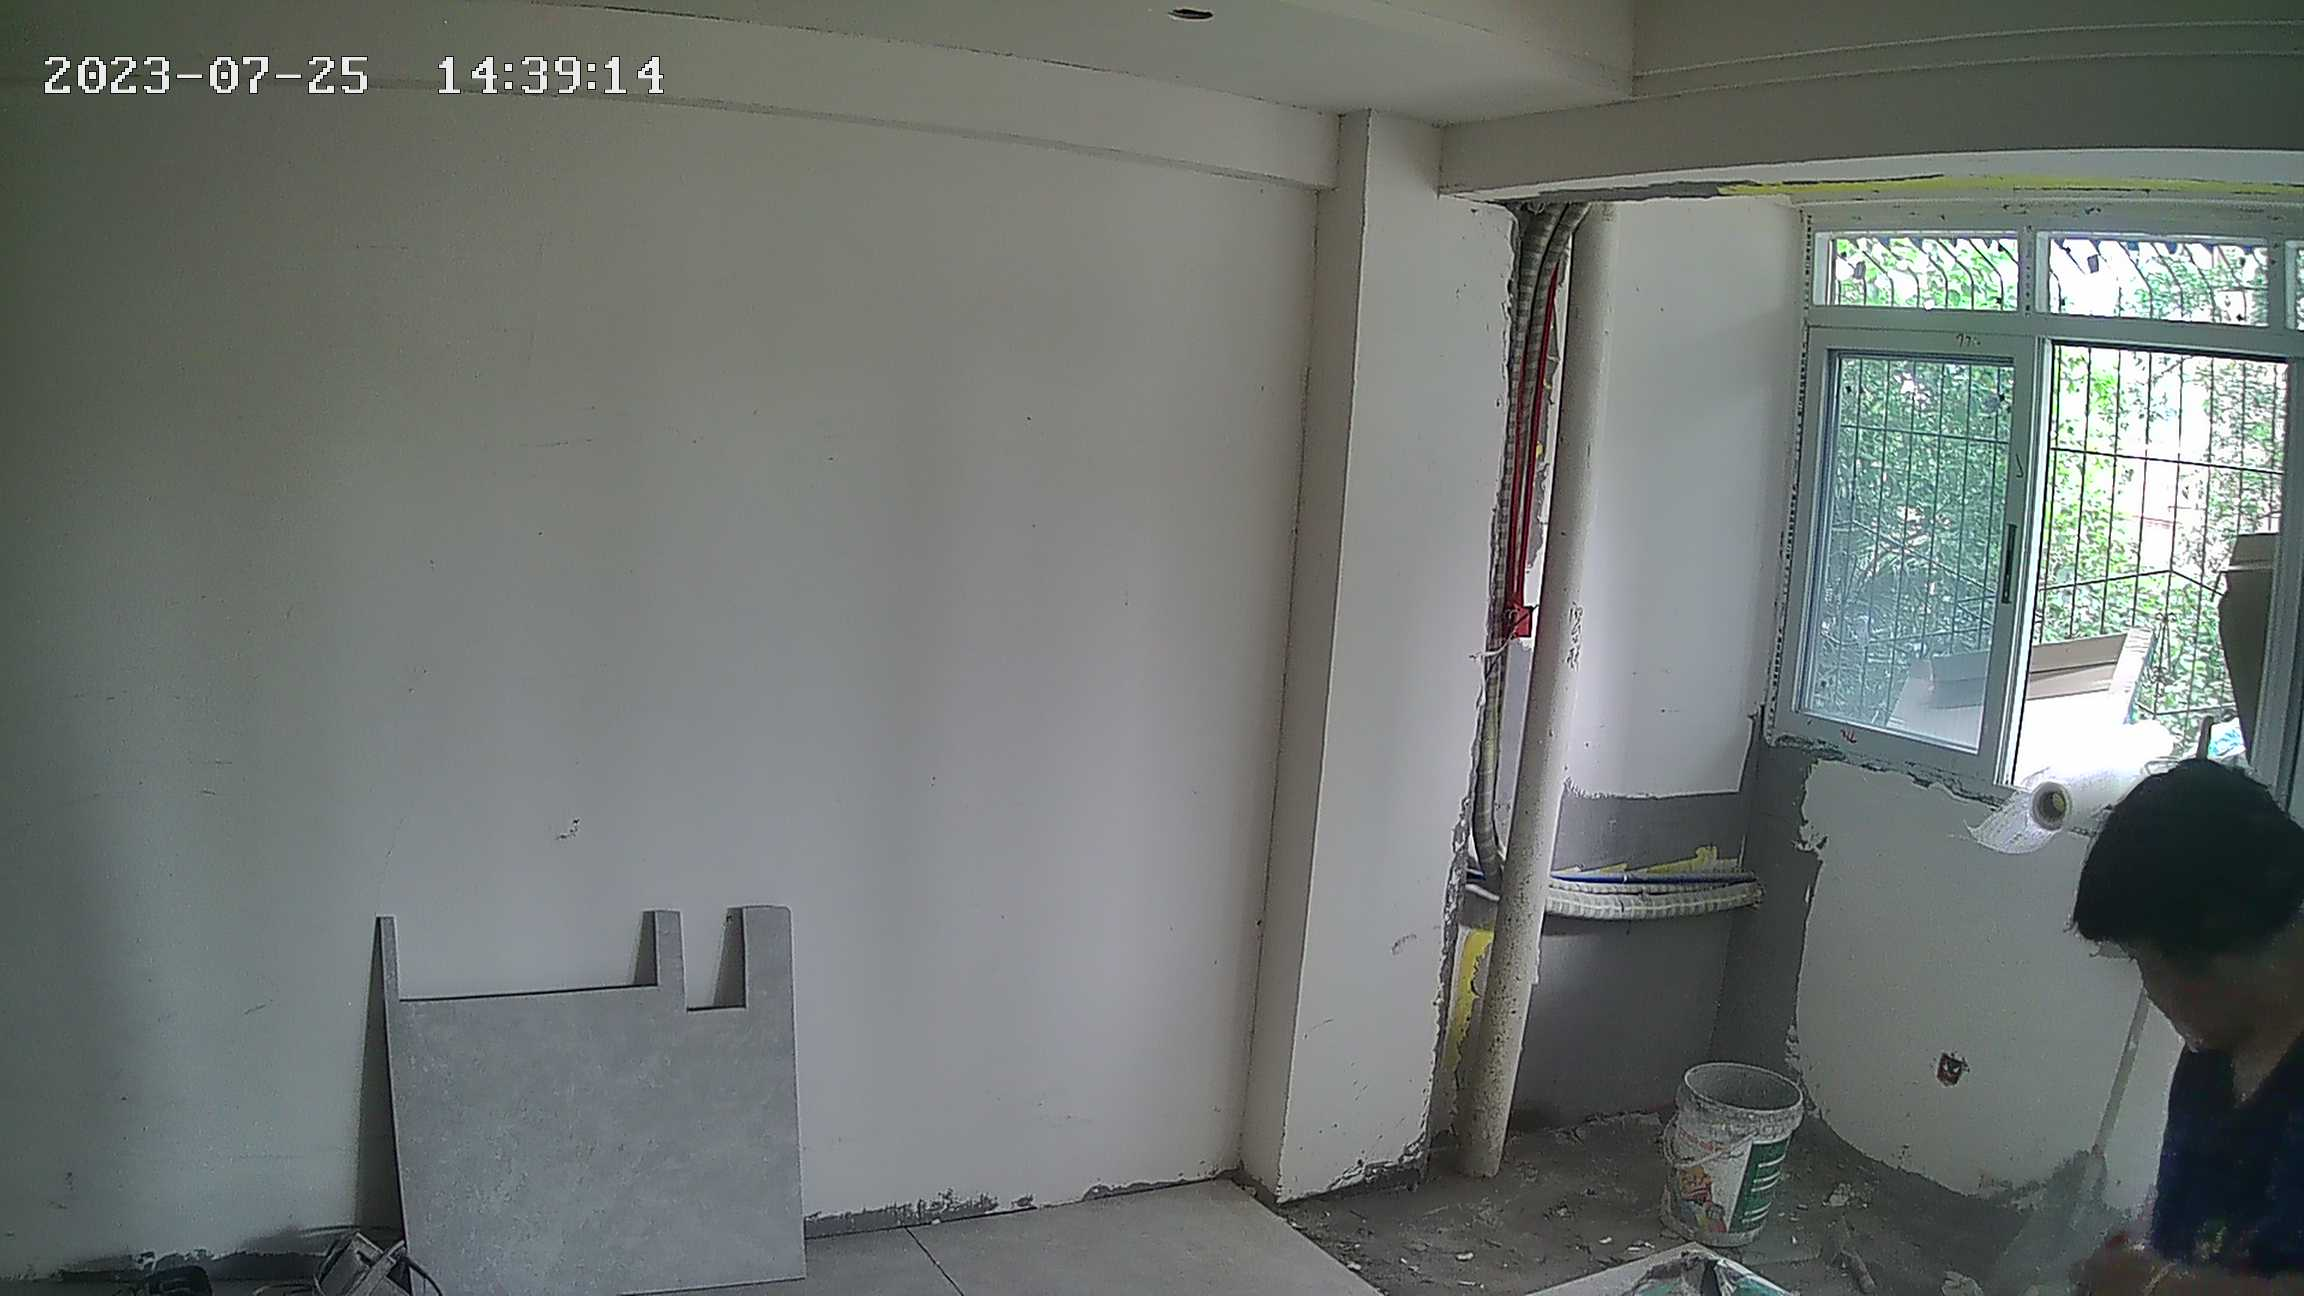people: (2052, 761, 2304, 1292)
window: (1797, 201, 2295, 827)
